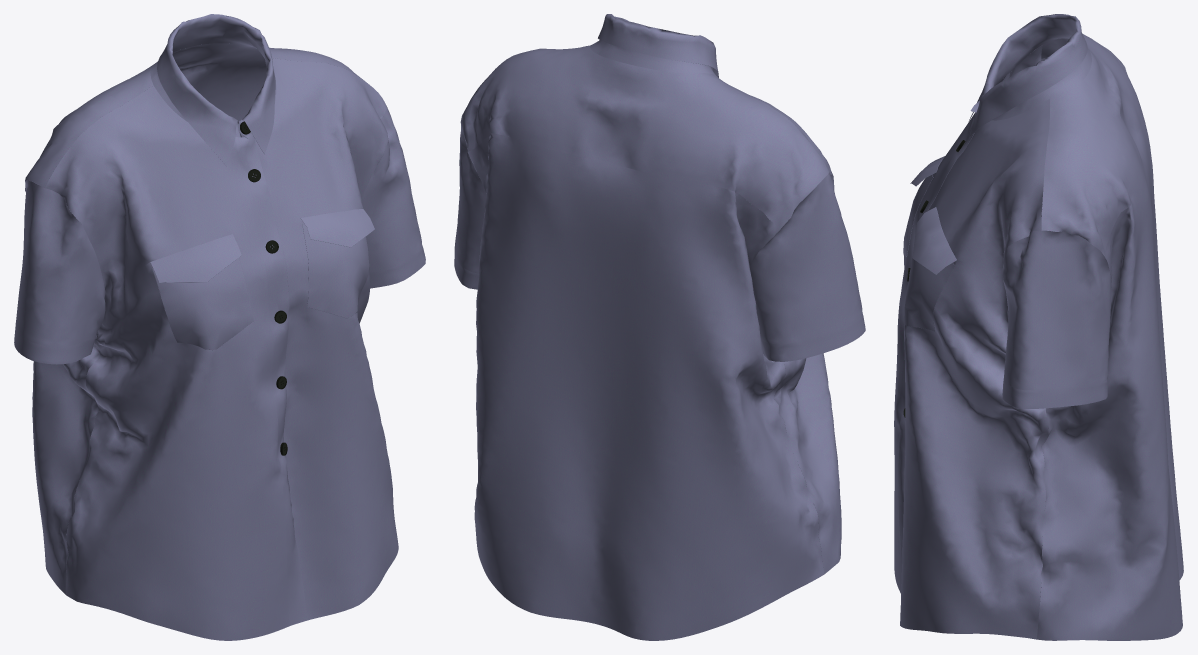
3 renders of one model, left to right at view 1: azimuth 30°, elevation 25°; view 2: azimuth 150°, elevation 25°; view 3: azimuth 270°, elevation 25°, orthographic. The views are drawn at different scales.
Visible parts, largest first — view 1: Pattern2D_5340174, Pattern2D_5340173, 31, Pattern2D_3547521, Pattern2D_119045, Pattern2D_3634183, 9, Pattern2D_5340176, Pattern2D_5340175, Pattern2D_5340178, Pattern2D_5340177; view 2: Pattern2D_3547521, Pattern2D_119045, 31, Pattern2D_5340174, Pattern2D_3634183, 9; view 3: Pattern2D_5340173, Pattern2D_3547521, 9, Pattern2D_119045, Pattern2D_3634183, Pattern2D_5340174, Pattern2D_5340175, Pattern2D_5340177, Pattern2D_5340176.
Part boxes in pixels (x1,y1,x2,y2): Pattern2D_5340174: (45,85,307,640); Pattern2D_5340173: (245,58,398,625); 31: (14,180,105,364); Pattern2D_3547521: (32,89,260,594); Pattern2D_119045: (25,43,369,187); Pattern2D_3634183: (150,14,276,166); 9: (361,105,425,288); Pattern2D_5340176: (152,258,253,350); Pattern2D_5340175: (302,224,369,318); Pattern2D_5340178: (150,234,241,282); Pattern2D_5340177: (300,209,374,247); Pattern2D_3547521: (468,133,824,640); Pattern2D_119045: (460,45,829,229); 31: (750,172,865,361); Pattern2D_5340174: (711,74,841,574); Pattern2D_3634183: (590,14,718,77); 9: (454,122,486,289); Pattern2D_5340173: (900,99,1049,639); Pattern2D_3547521: (1036,107,1183,640); 9: (1002,230,1110,408); Pattern2D_119045: (1041,34,1141,259); Pattern2D_3634183: (968,14,1091,137); Pattern2D_5340174: (894,45,1042,593); Pattern2D_5340175: (904,258,954,331); Pattern2D_5340177: (912,207,956,274); Pattern2D_5340176: (903,174,933,256).
Size of the model in its own units: 52.82 by 70.46 by 32.11.
